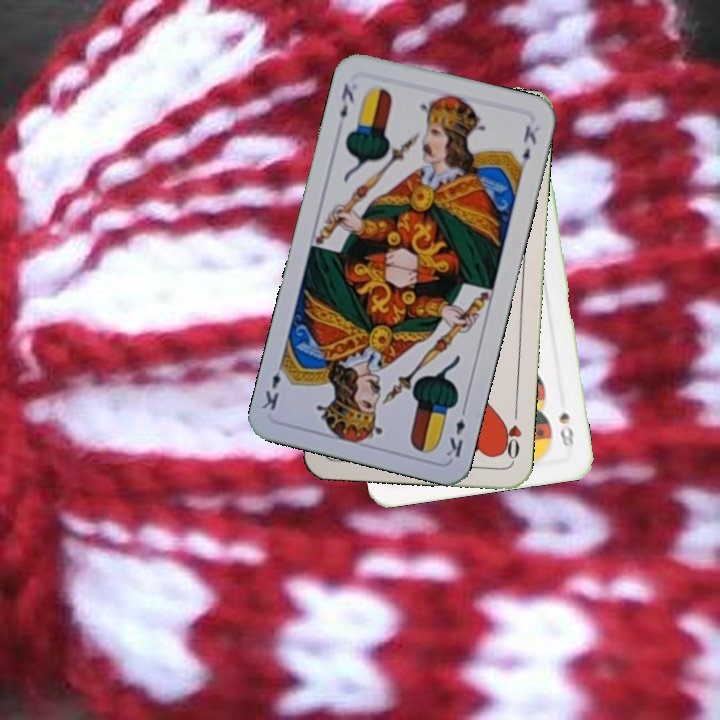EK: (442, 401, 470, 460), (335, 79, 357, 121)
HO: (498, 405, 524, 464)
S8: (555, 408, 576, 449)
